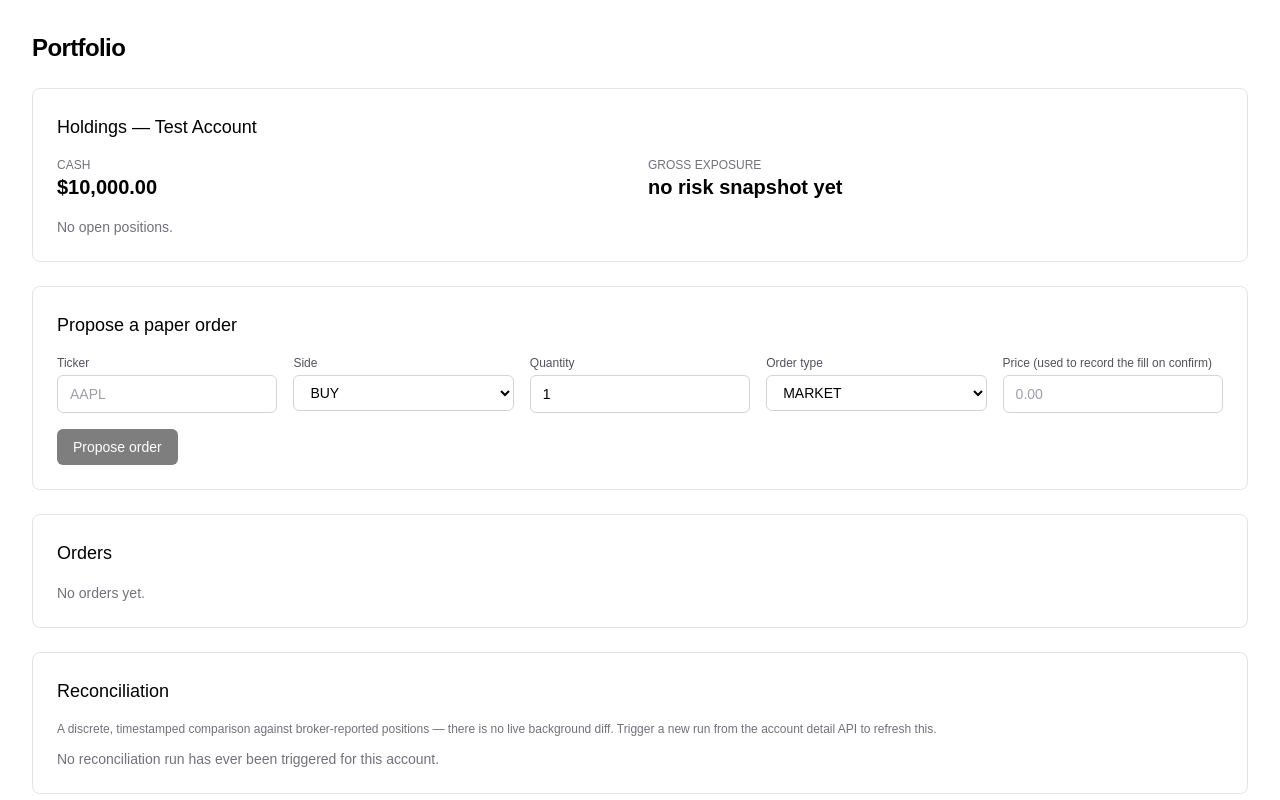
Test case: PortfolioPage — order create→confirm flow › requires a second click through ConfirmButton before confirming an order
Type "msft" into the field with placeholder "AAPL" at (167, 394), box [57,375,277,413]
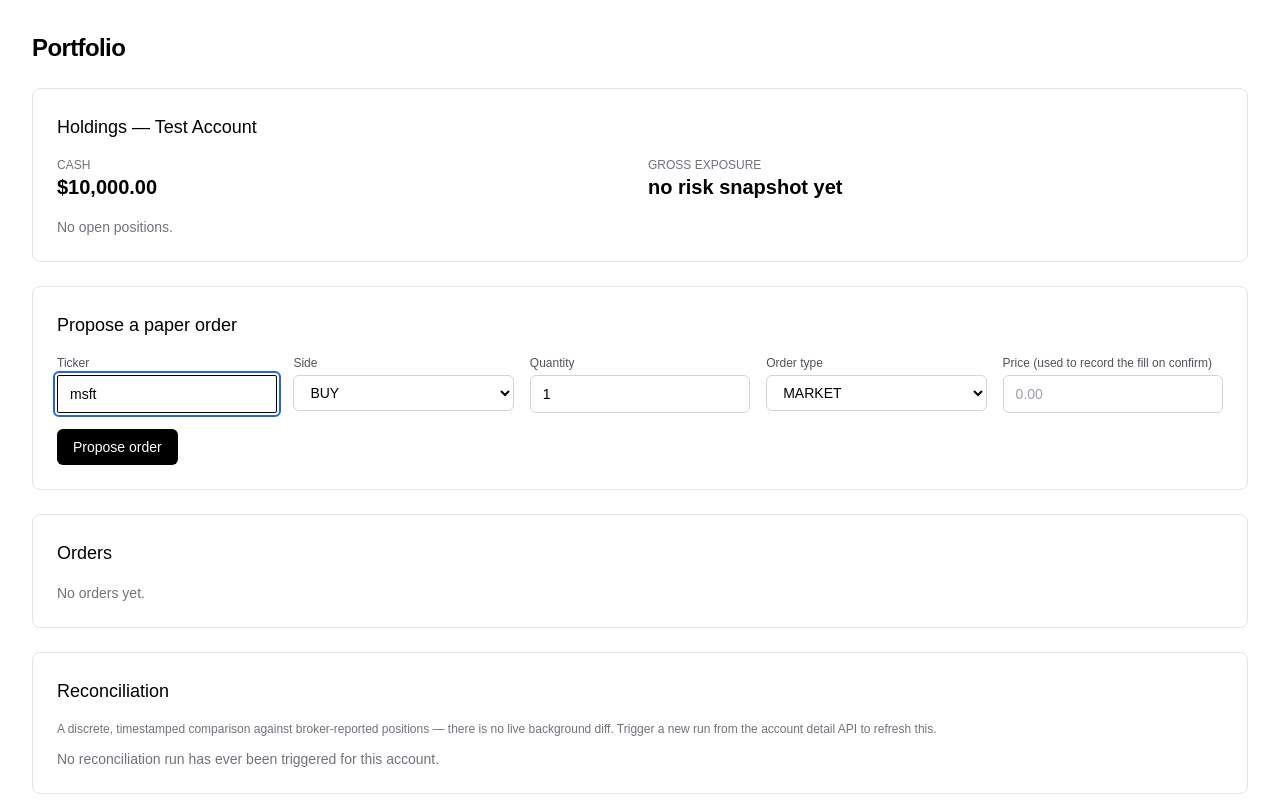
Type "300.00" into the field with placeholder "0.00" at (1113, 394), box [1003,375,1223,413]
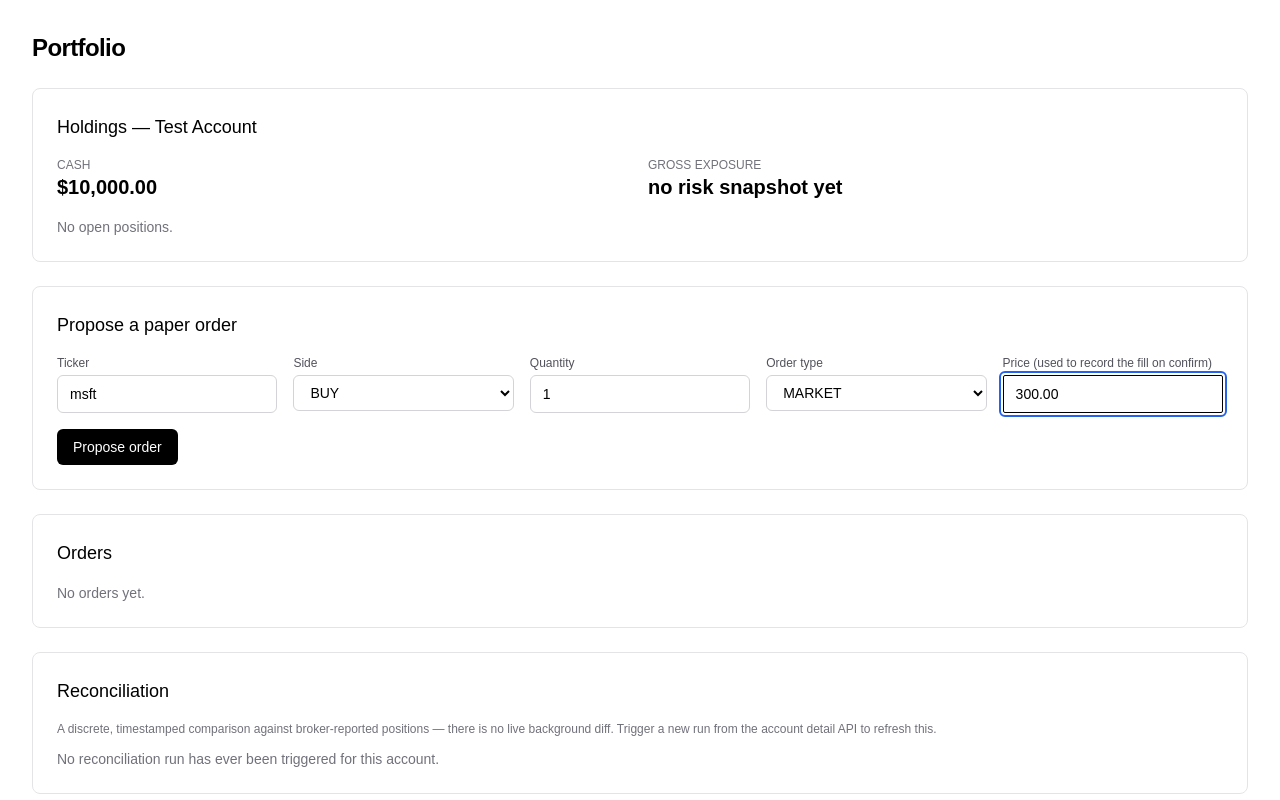
Result: the button "Propose order" is enabled
Click the button "Propose order" at (117, 447), box [57,429,178,465]
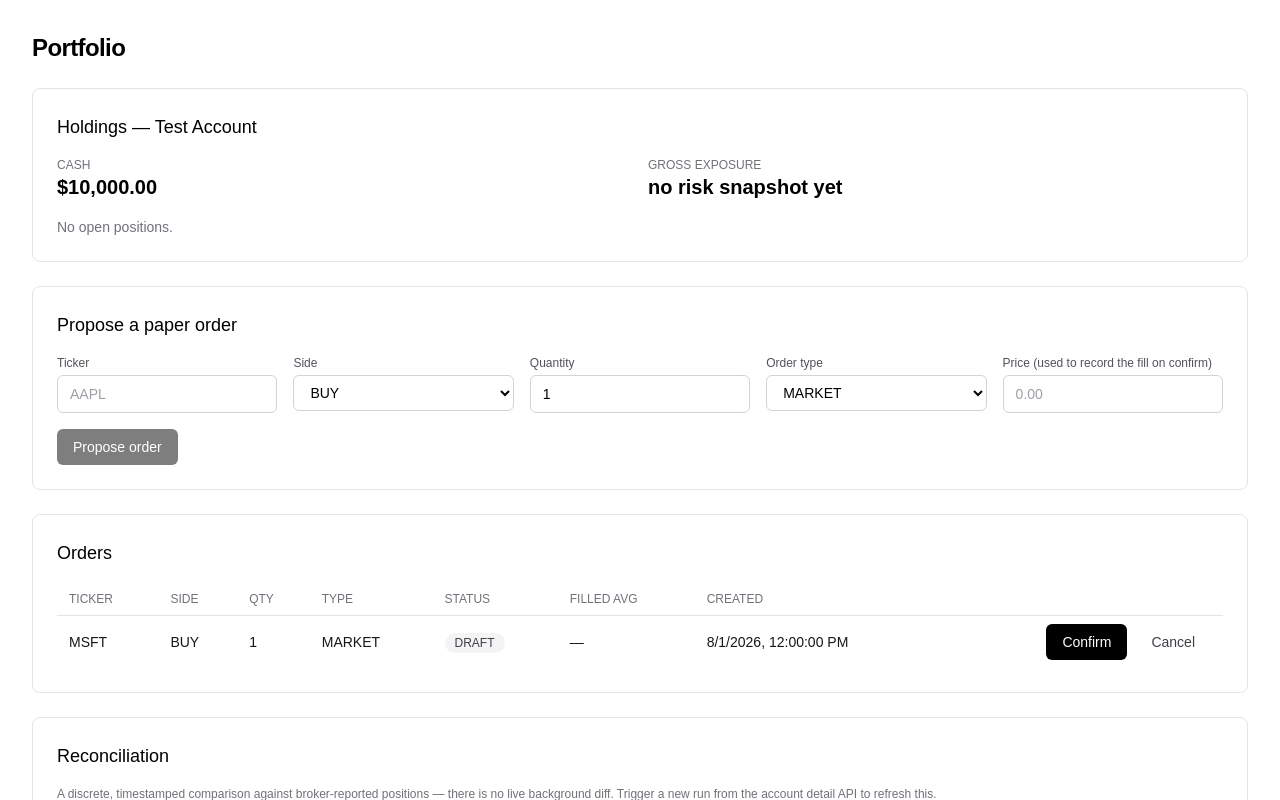
Result: the text "MSFT" is shown at [57,616,158,668]
Click the button "Confirm" at (1087, 642), box [1046,624,1127,660]
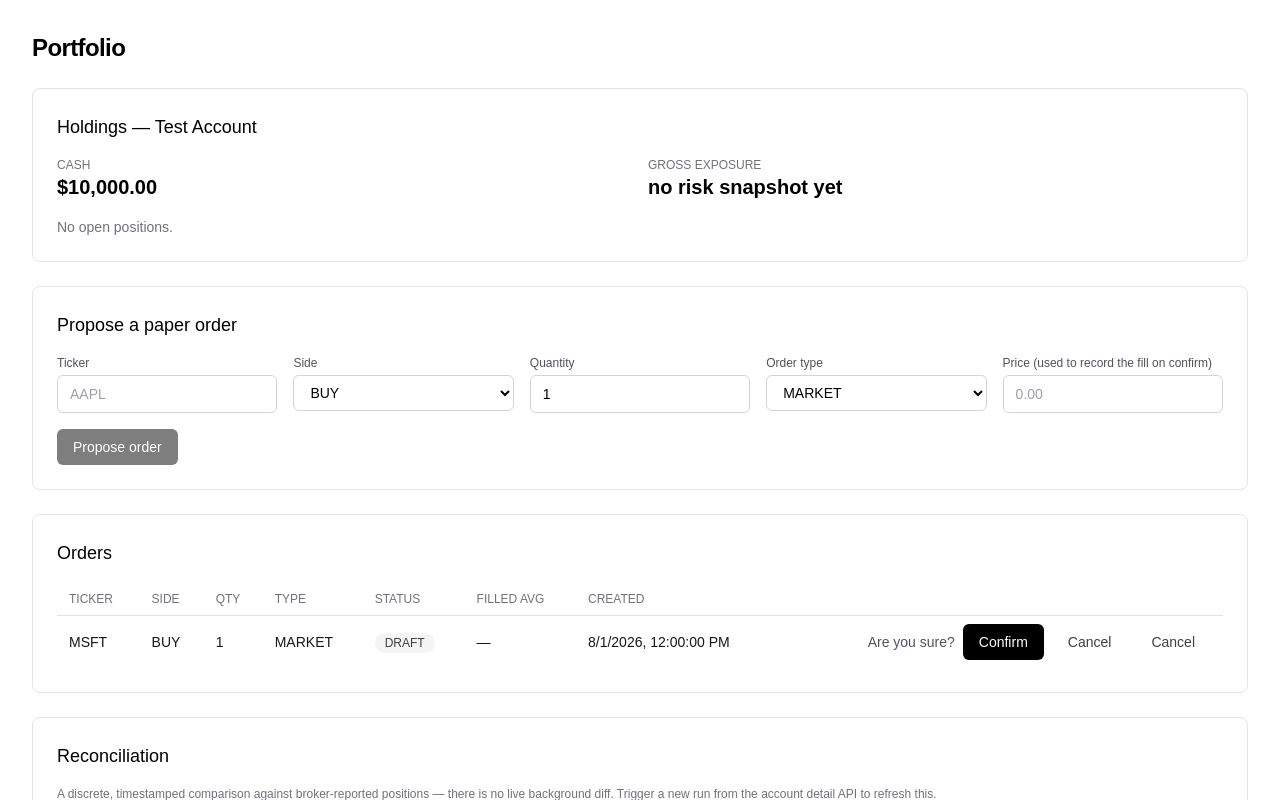
Result: the text "DRAFT" is shown at [375,632,435,652]
Result: the text "Are you sure?" is shown at [868,632,955,652]
Click the button "Confirm" at (1003, 642), box [963,624,1044,660]
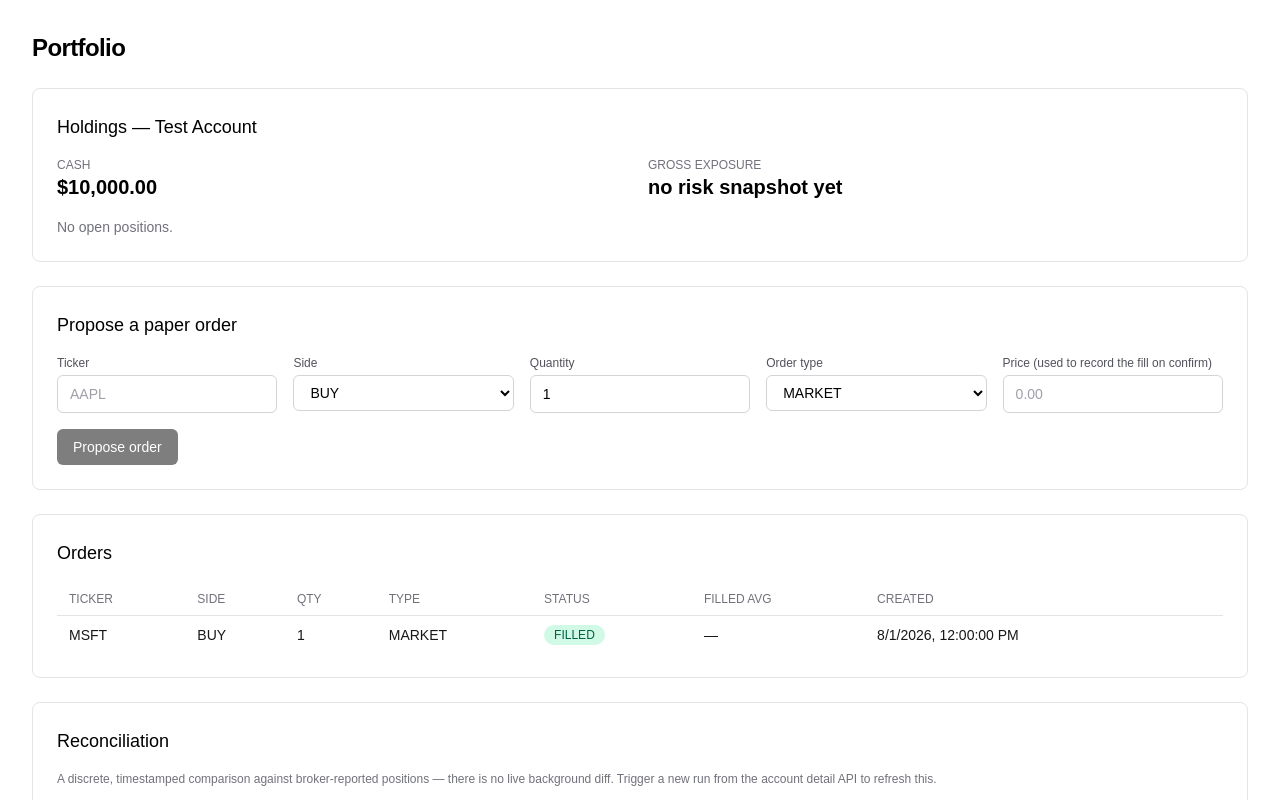
Result: the text "FILLED" is shown at [544,625,605,645]
